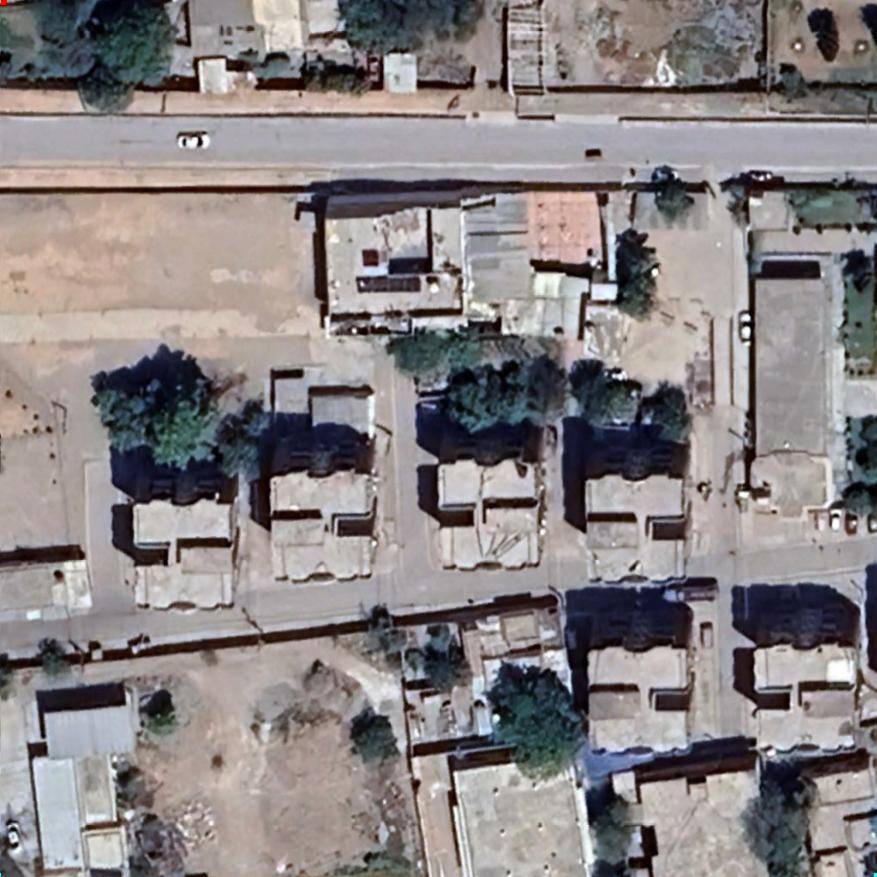Solarpanel: (355, 275, 423, 294)
